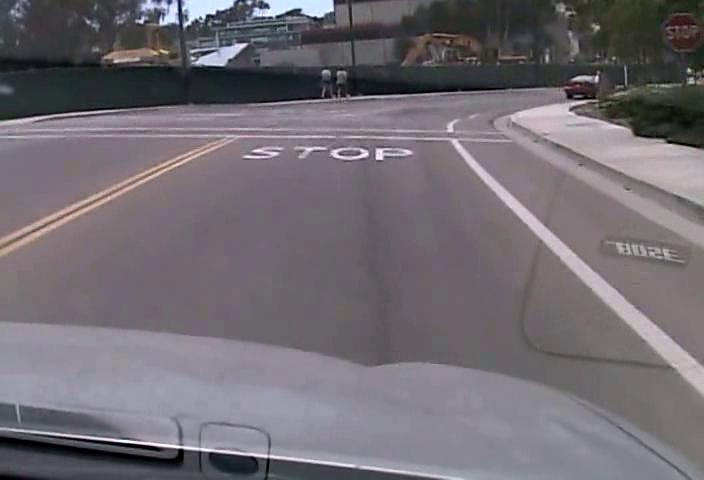stop: (661, 12, 703, 53)
